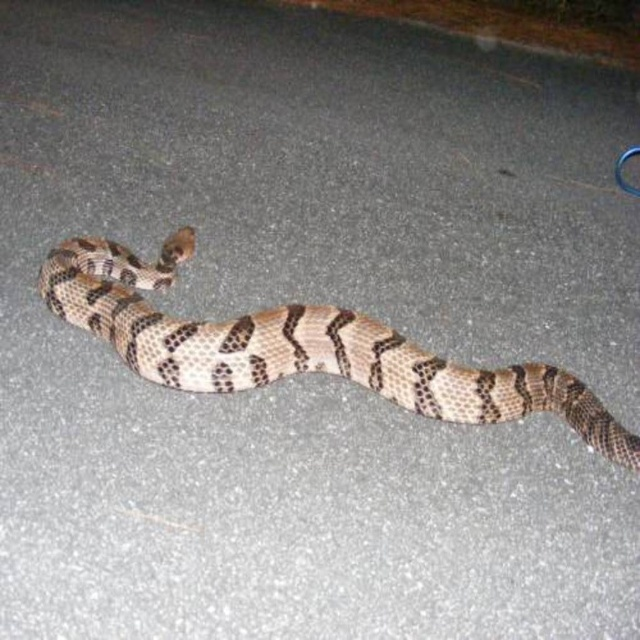Snake: (37, 223, 639, 470)
